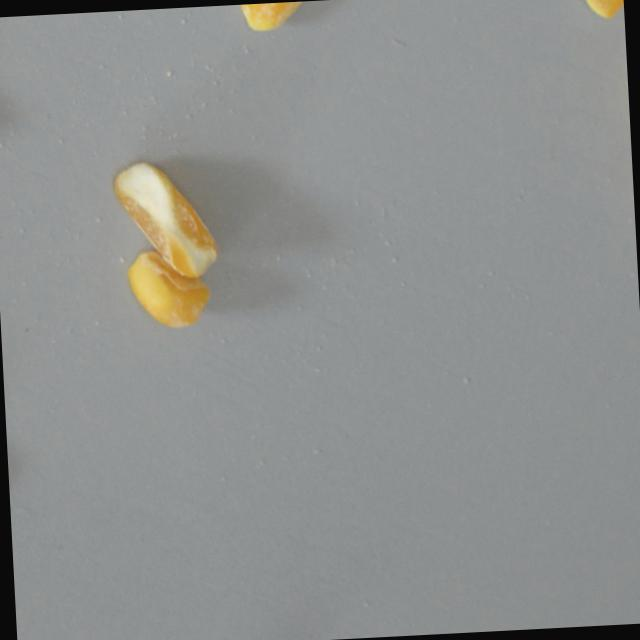dañado: (108, 153, 221, 282), (122, 246, 215, 333), (235, 0, 355, 36), (579, 0, 625, 22)
